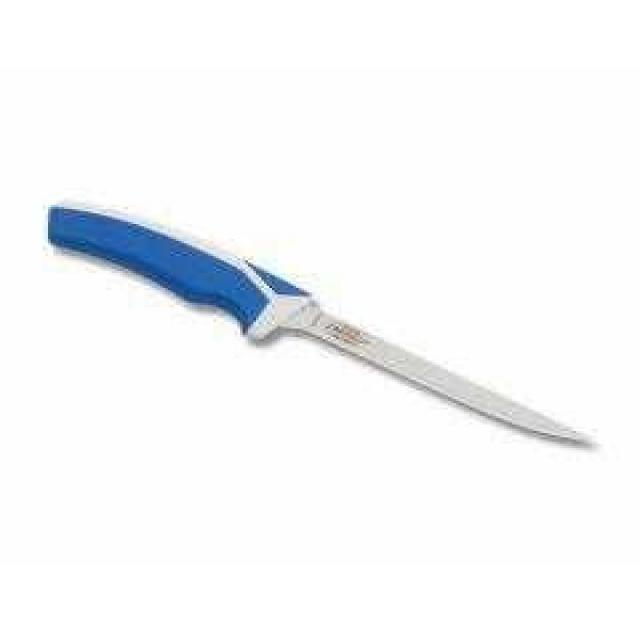Knife: (34, 190, 601, 468)
